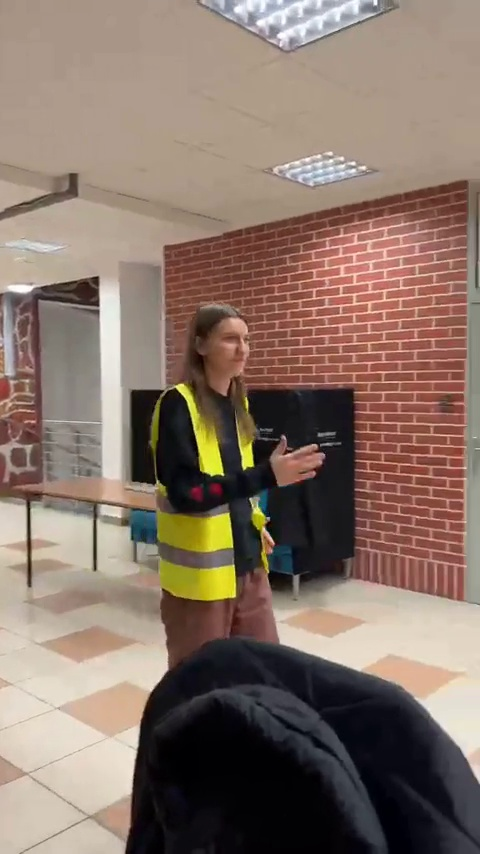vest: (145, 311, 316, 652)
